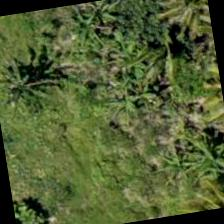Kelapa_Sawit: (109, 0, 213, 100), (132, 0, 213, 47)
